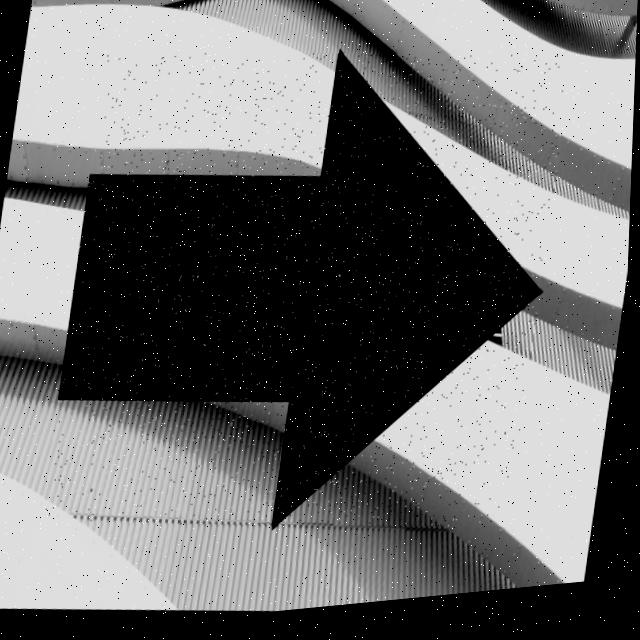RIGHT: (62, 60, 542, 530)
